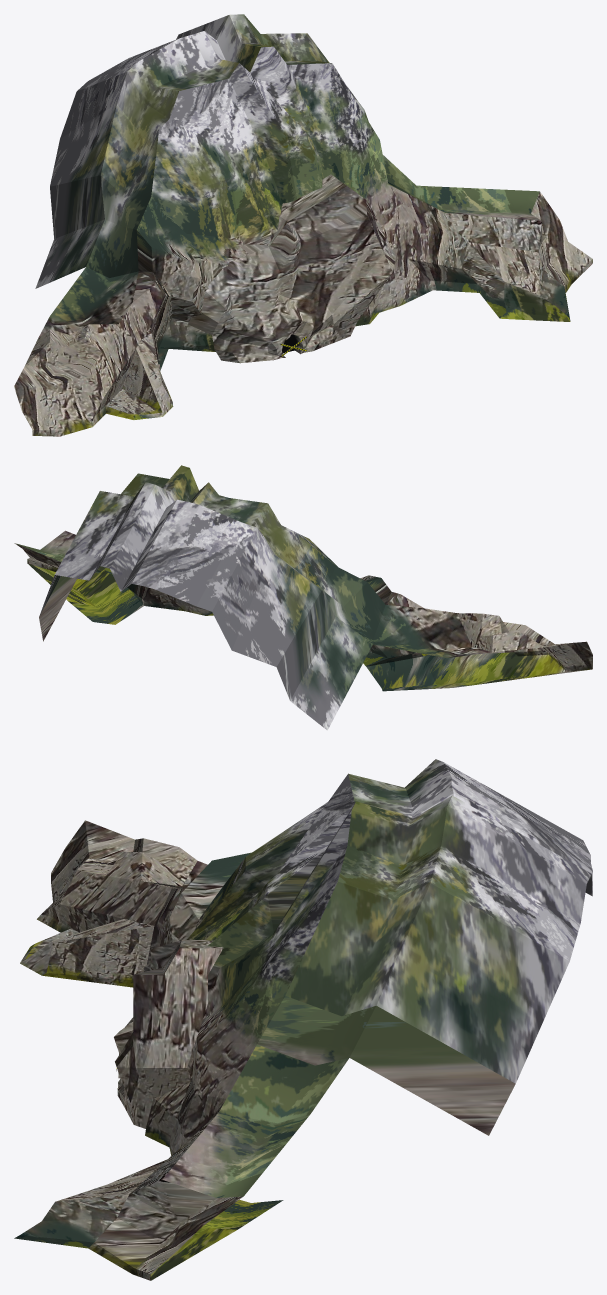
File: mountain.fbx
3 views of the same model, one above another, from view 1: azimuth 30°, elevation 25°; view 2: azimuth 150°, elevation 25°; view 3: azimuth 270°, elevation 25° (orthographic). The views are drawn at different scales.
Parts seen in each view (by area): view 1: pCube1, pPipe1; view 2: pCube1; view 3: pCube1, pPipe1.
Part boxes in pixels (<box>): pCube1: <box>14,14,592,436</box>; pPipe1: <box>188,174,395,363</box>; pCube1: <box>14,465,592,730</box>; pCube1: <box>14,759,592,1280</box>; pPipe1: <box>114,940,223,1128</box>.
Bounding box in the file's own units: 3045 × 1156 × 1847.
4 materials, 3 textured.
